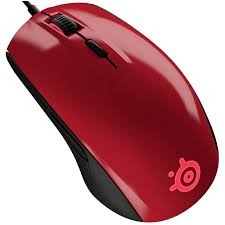mouse: (0, 1, 225, 225)
